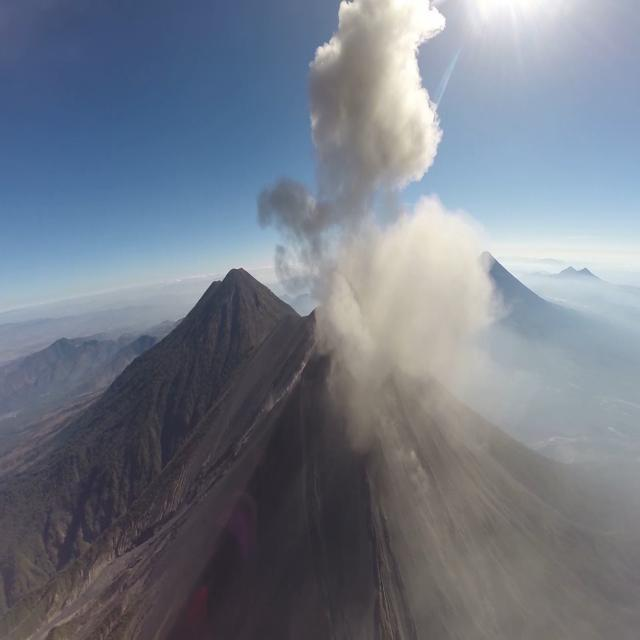Plume: (297, 189, 527, 417), (304, 1, 454, 238)
